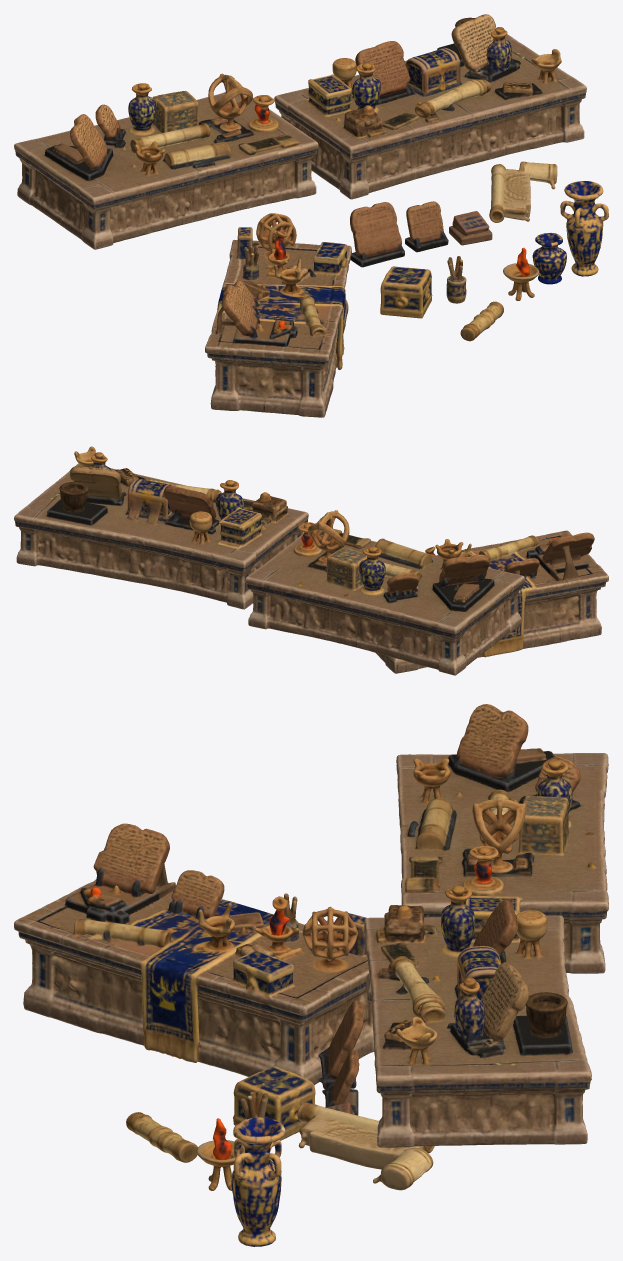
File: archive-furniture.glb
3 views of the same model, one above another, from view 1: azimuth 30°, elevation 25°; view 2: azimuth 150°, elevation 25°; view 3: azimuth 270°, elevation 25° (orthographic). The views are drawn at different scales.
Visible parts, largest first — view 1: world; view 2: world; view 3: world.
Part boxes in pixels (x1,y1,x2,y2): world: [14, 14, 608, 417]; world: [14, 446, 608, 675]; world: [14, 704, 608, 1246].
Bounding box in the file's own units: 1 × 0.3832 × 0.7754.
1 material, 1 textured.
